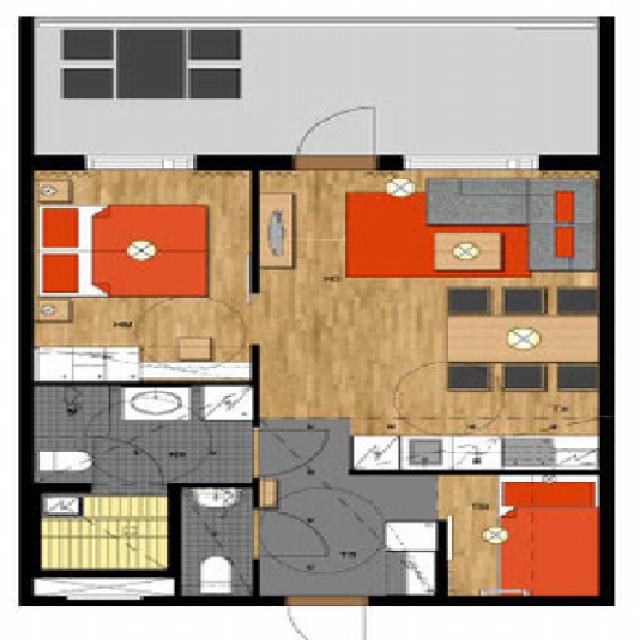door: (298, 103, 374, 170), (94, 436, 163, 490), (252, 509, 330, 556), (289, 595, 366, 640), (252, 431, 326, 475)
